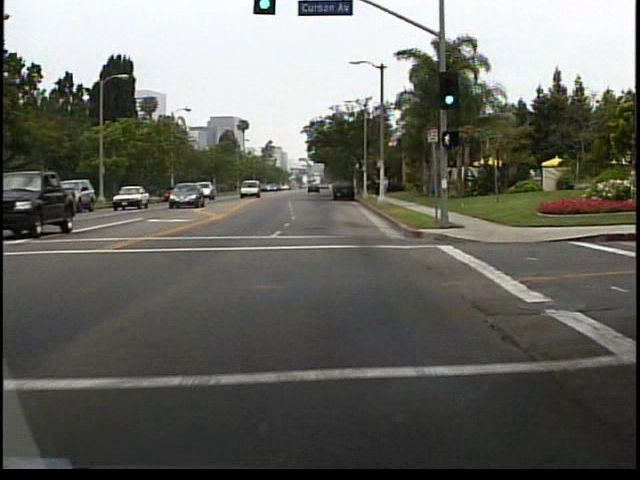person: (375, 176, 384, 201), (384, 173, 392, 196)
